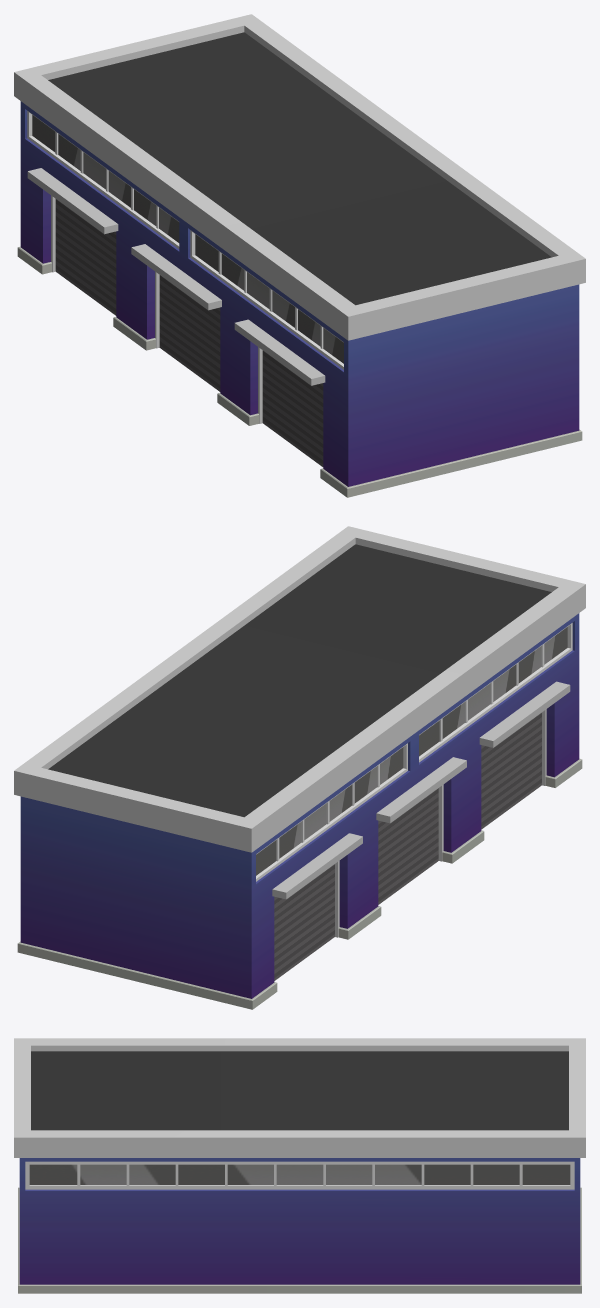
The model's file is Building_Fabric_3_C.fbx.
3 views of the same model, one above another, from view 1: azimuth 30°, elevation 25°; view 2: azimuth 150°, elevation 25°; view 3: azimuth 270°, elevation 25° (orthographic). The views are drawn at different scales.
Parts seen in each view (by area): view 1: Building_Fabric_3_C; view 2: Building_Fabric_3_C; view 3: Building_Fabric_3_C.
Boxes of the visible parts, <box> form: Building_Fabric_3_C: <box>14,14,585,497</box>; Building_Fabric_3_C: <box>14,526,585,1009</box>; Building_Fabric_3_C: <box>14,1038,585,1293</box>.
Size of the model in its own units: 657 by 462 by 1531.
